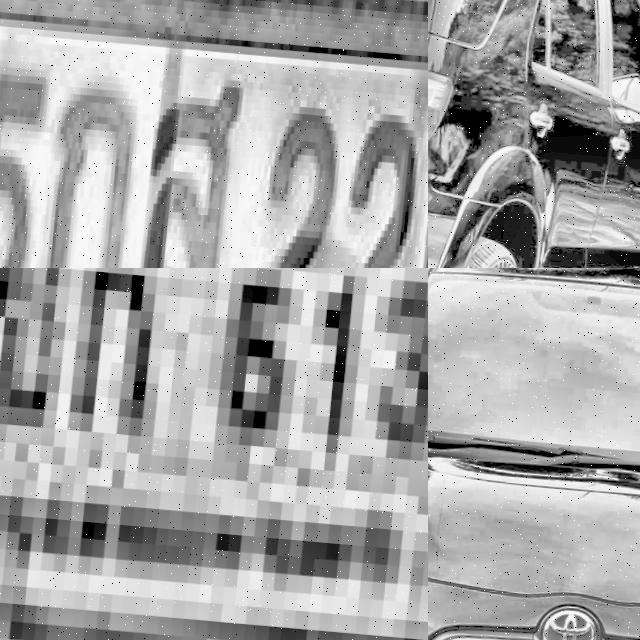license-plate: (0, 268, 428, 640), (0, 0, 428, 268)
